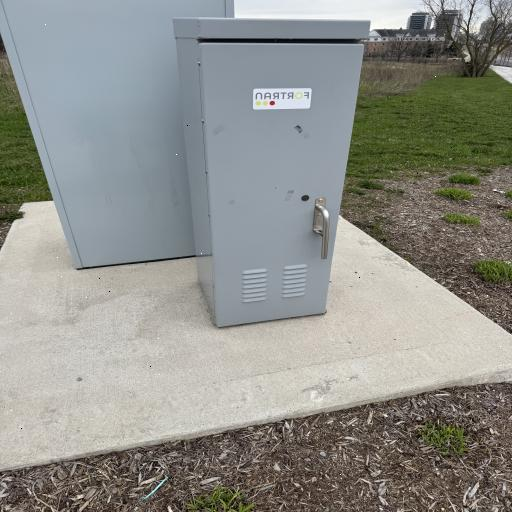Electrical Box: (0, 0, 235, 270), (170, 16, 370, 324)
